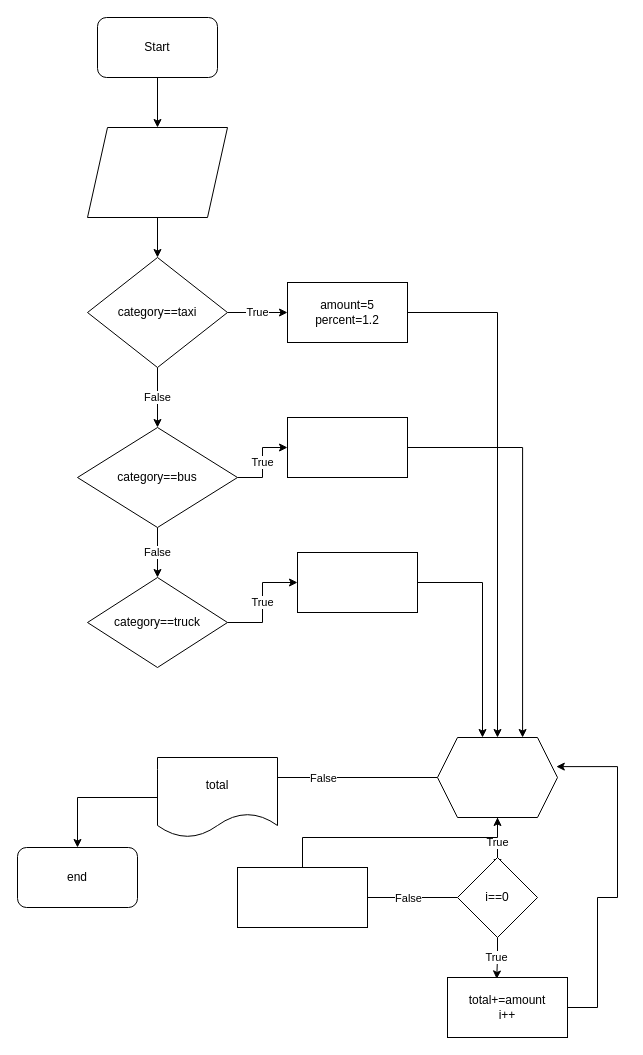
Some shapes in this 643 by 1055 pixel diagram are drawn without their labels. The centre of each missing label's shape, as x and y in pixels:
amount=6 percent=1.215: (x=347, y=447)
amount=6.5 percent=1.25: (x=357, y=582)
category=? hours=? total=0; amount=0; percent=? i=0: (x=157, y=172)
i<hours: (x=497, y=777)
total+=amount*percent i++: (x=302, y=897)
